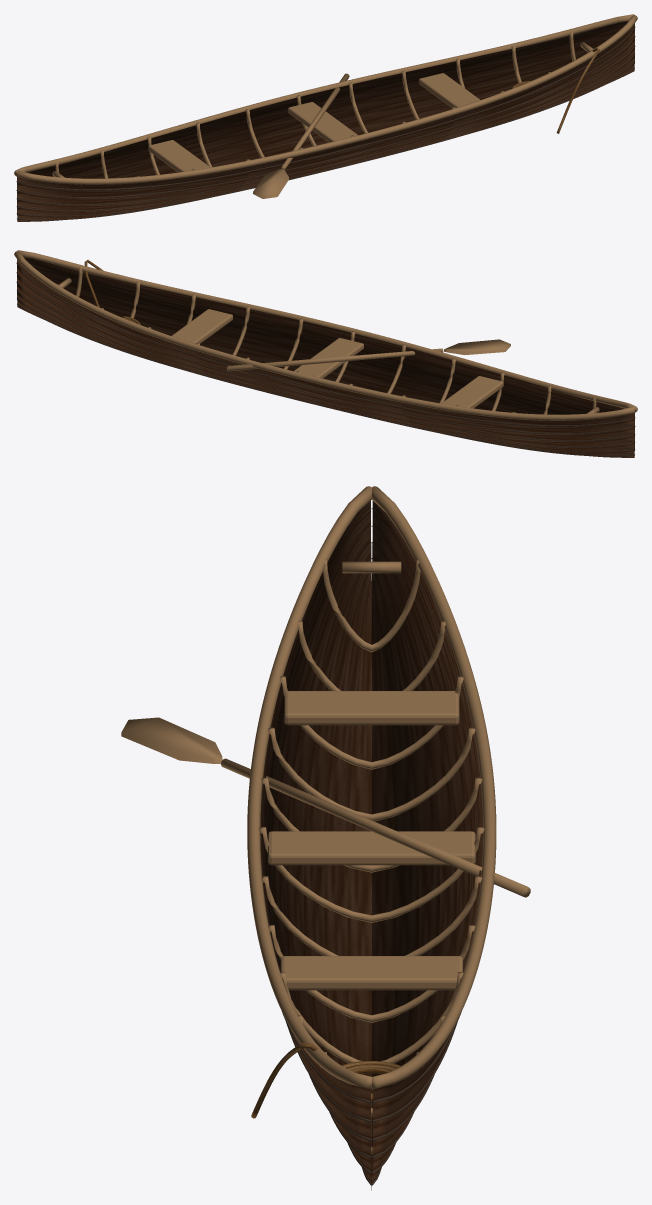
The model's file is KL_LS_Country_Canoe.gltf.
3 renders of one model, top to bottom at view 1: azimuth 30°, elevation 25°; view 2: azimuth 150°, elevation 25°; view 3: azimuth 270°, elevation 25°, orthographic. The views are drawn at different scales.
Visible parts, largest first — view 1: TF3_KL_LS_Country_Canoe; view 2: TF3_KL_LS_Country_Canoe; view 3: TF3_KL_LS_Country_Canoe.
Part boxes in pixels (<box>): TF3_KL_LS_Country_Canoe: <box>14,14,637,221</box>; TF3_KL_LS_Country_Canoe: <box>14,250,637,457</box>; TF3_KL_LS_Country_Canoe: <box>121,486,530,1190</box>.
Bounding box in the file's own units: 5.83 × 0.6894 × 1.66.
4 materials, 2 textured.
